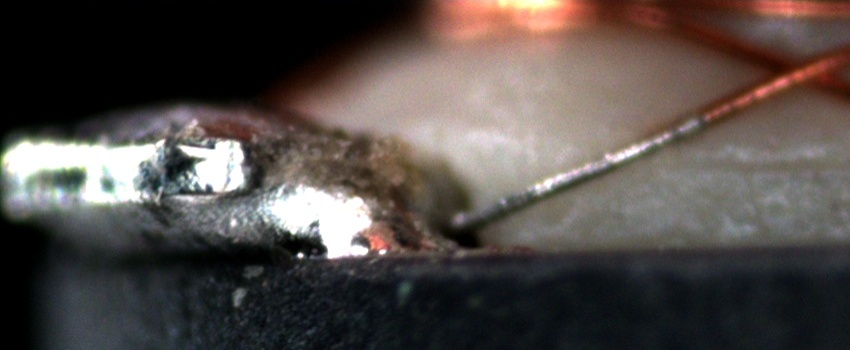CL: (749, 41, 836, 99)
DL: (618, 131, 850, 195)
TS: (447, 113, 705, 229)
